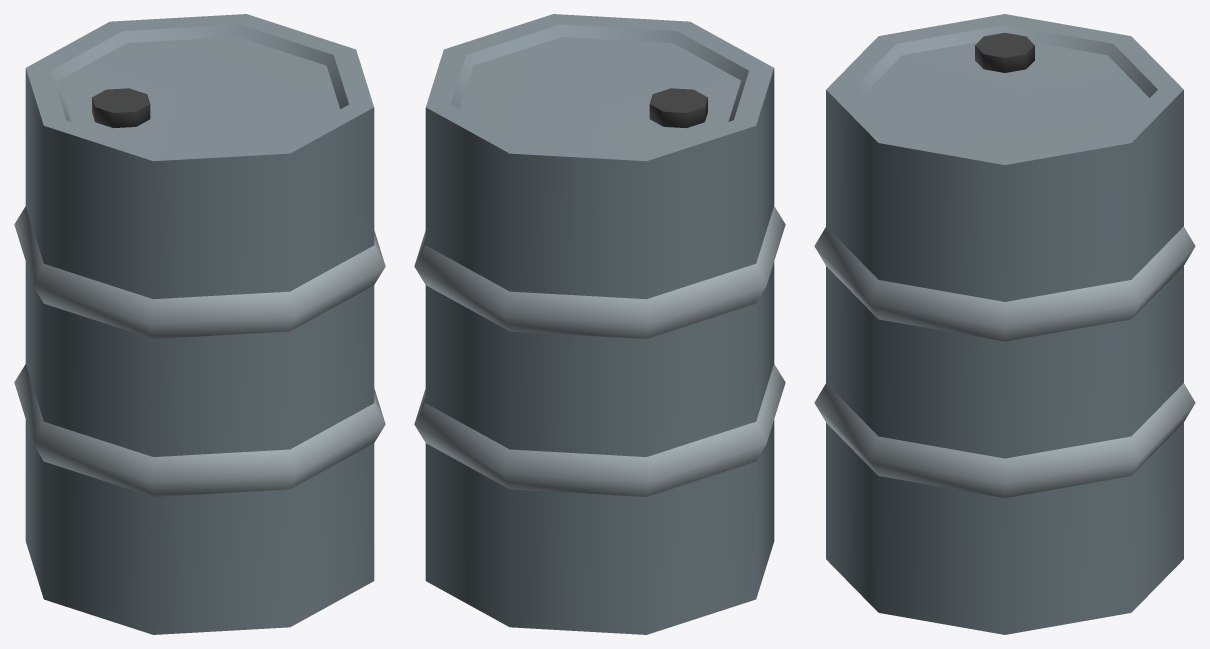
The model's file is barrel_003.glb.
3 views of the same model, side by side, from view 1: azimuth 30°, elevation 25°; view 2: azimuth 150°, elevation 25°; view 3: azimuth 270°, elevation 25° (orthographic).
Visible parts, largest first — view 1: barrel_003; view 2: barrel_003; view 3: barrel_003.
Boxes of the visible parts, bbox=[...] form: barrel_003: bbox=[14, 14, 385, 634]; barrel_003: bbox=[414, 14, 785, 634]; barrel_003: bbox=[814, 14, 1195, 634].
Size of the model in its own units: 0.6175 by 0.8504 by 0.6175.
1 material, 1 textured.
